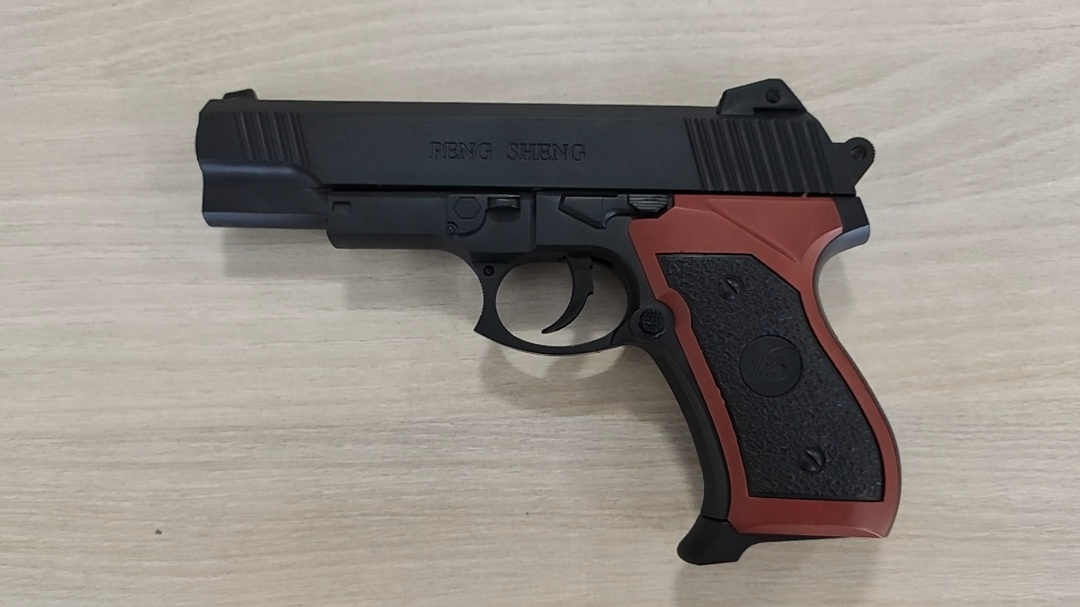gun: (450, 203, 578, 334)
